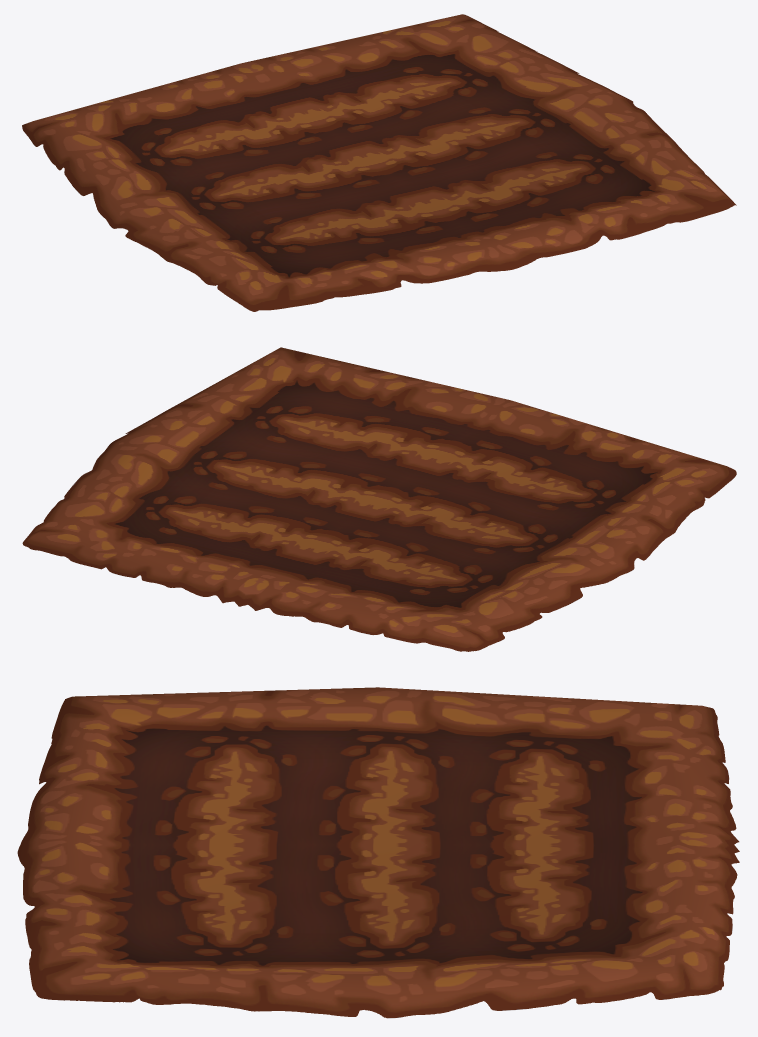
File: Field_05.FBX
3 views of the same model, one above another, from view 1: azimuth 30°, elevation 25°; view 2: azimuth 150°, elevation 25°; view 3: azimuth 270°, elevation 25° (orthographic). The views are drawn at different scales.
Parts seen in each view (by area): view 1: Field_05; view 2: Field_05; view 3: Field_05.
Boxes of the visible parts, left/top/right/bottom form: Field_05: left=22, top=14, right=736, bottom=311; Field_05: left=22, top=347, right=736, bottom=651; Field_05: left=17, top=687, right=739, bottom=1018.
Size of the model in its own units: 2.96 by 0.0676 by 2.74.
